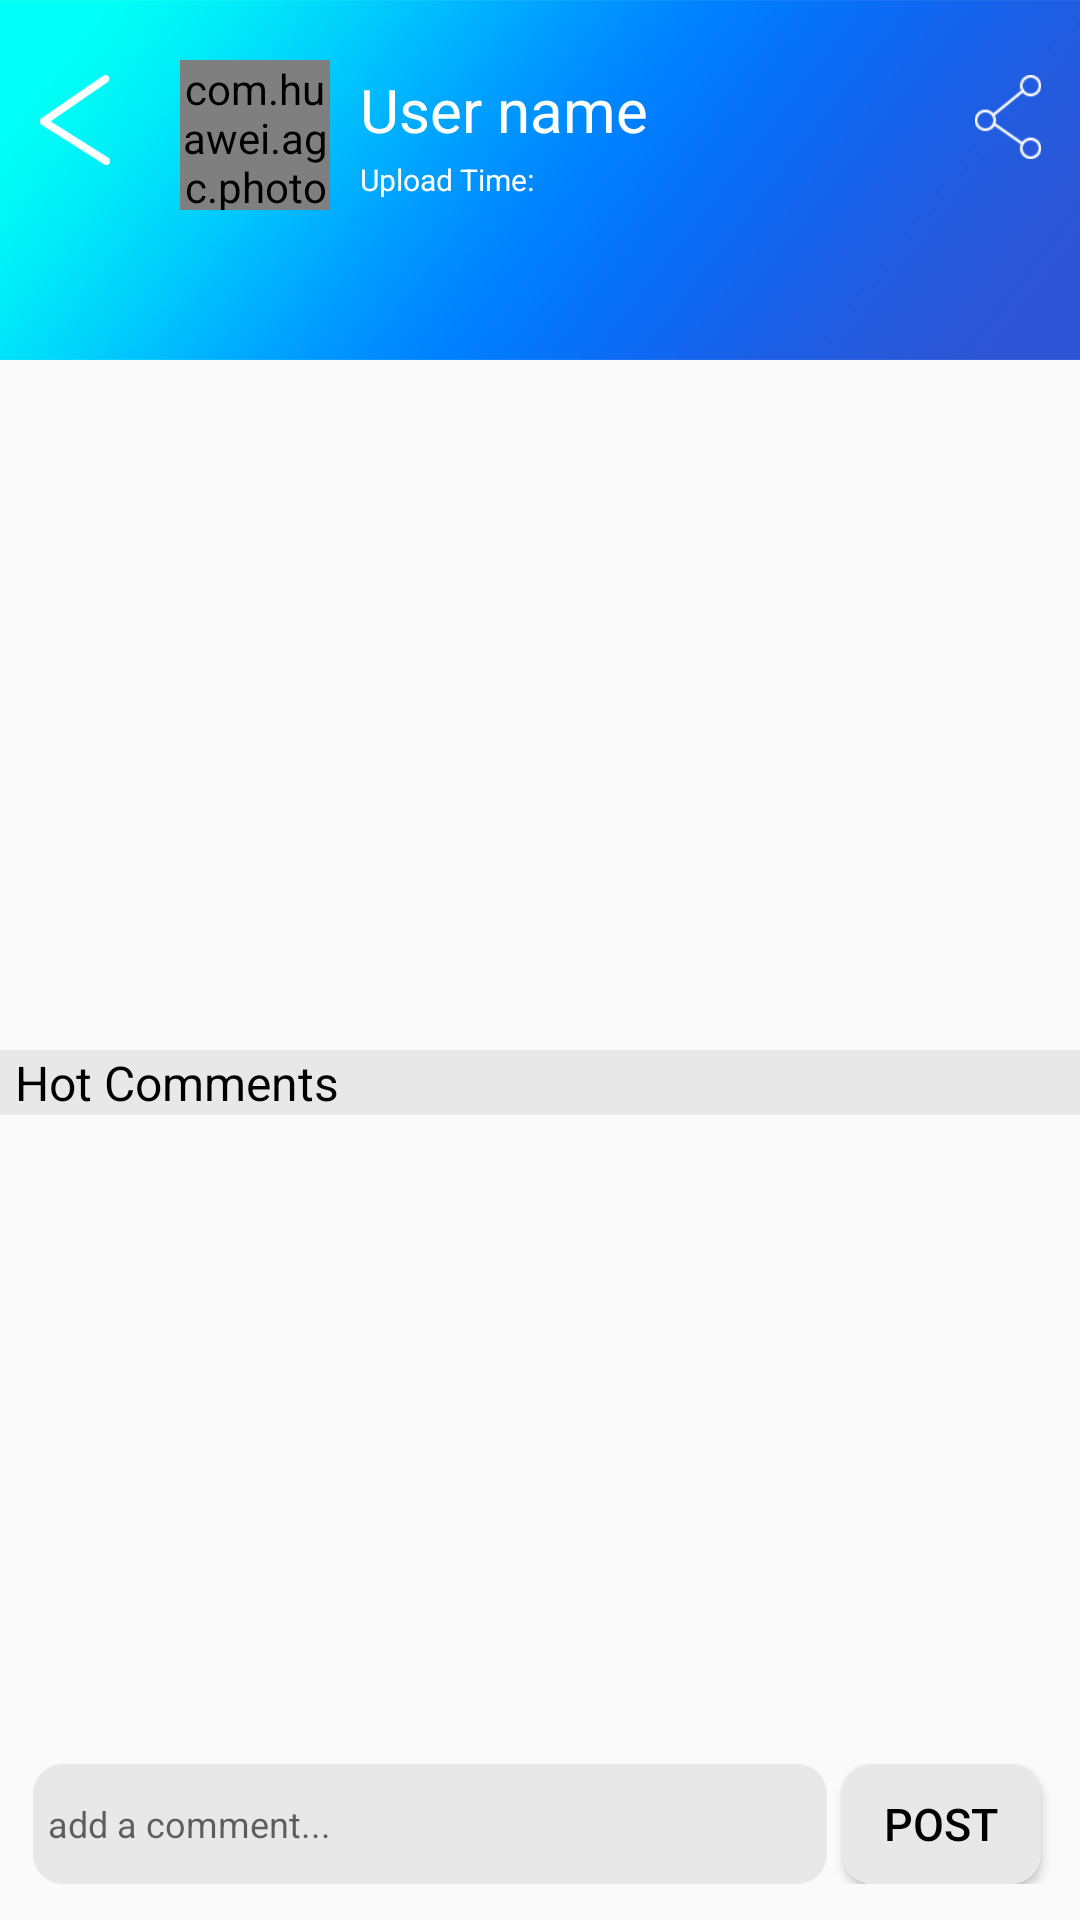

Named icons in this screenshot (1080 × 1920) and their centers, [x,y]:
back: [75,120]
share: [1008,117]
